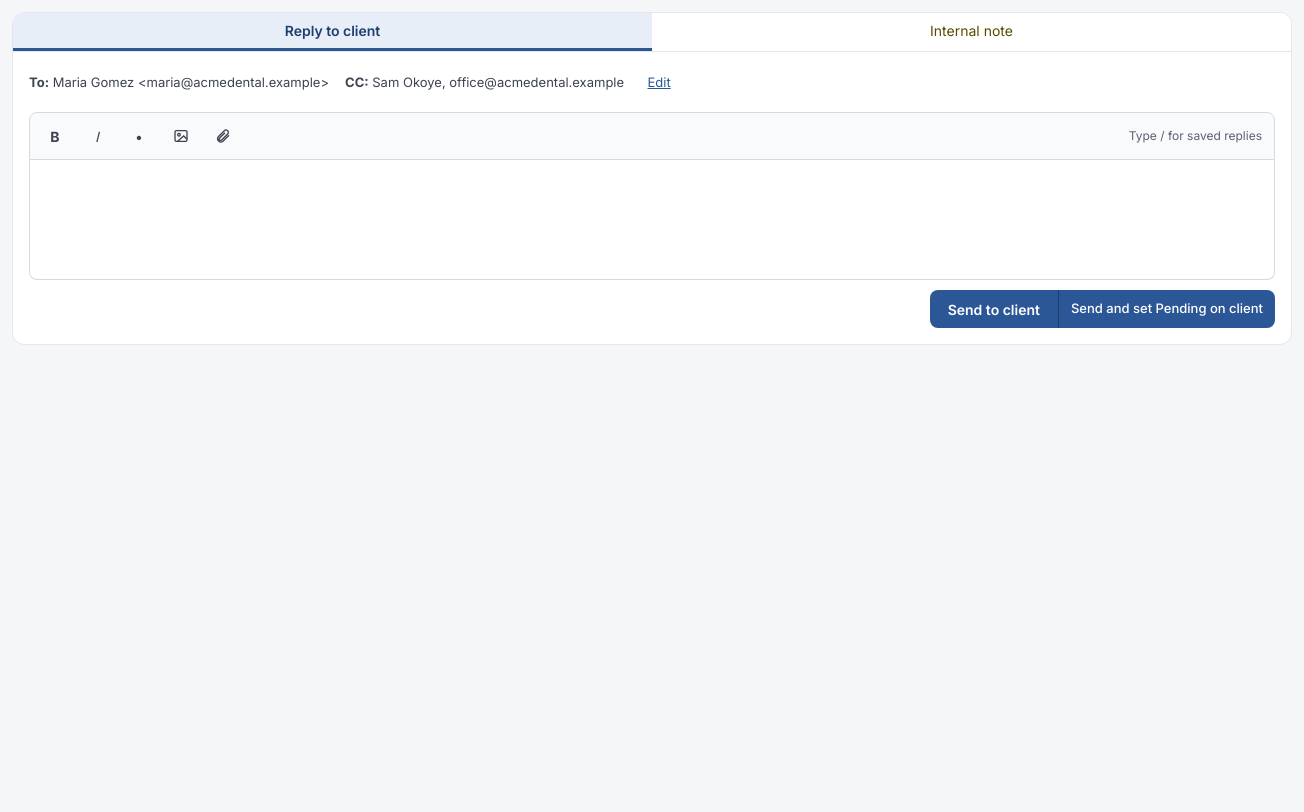
Test: Reply CC line and editor (ADR-035) › refuses an invalid address
Step 1. Click the button with aria-label "Edit CC" → (659, 83), box [640,64,678,102]
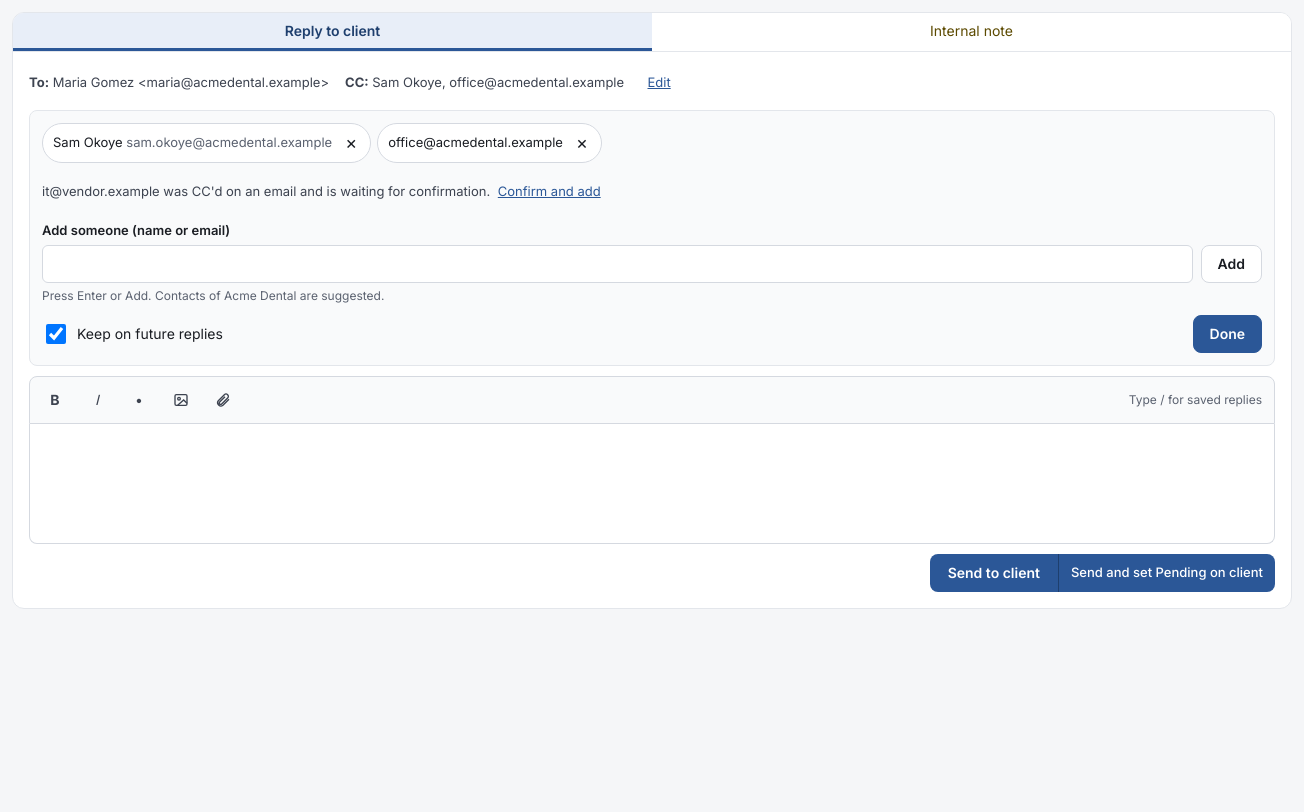
Step 2. Type "not an address" into the dropdown labelled "Add someone (name or email)" → (617, 264), box [42,244,1192,282]
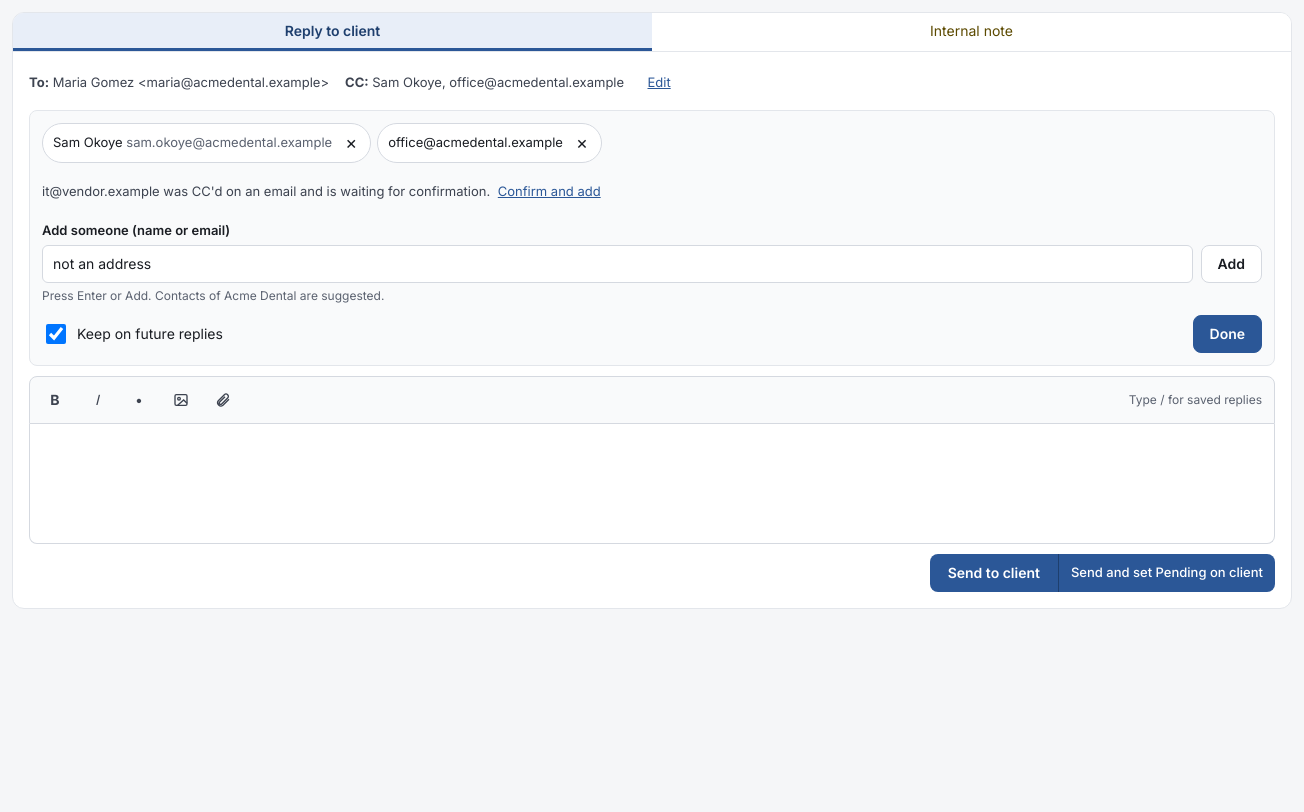
Step 3. Press Enter in the dropdown labelled "Add someone (name or email)", box [42,244,1192,282]
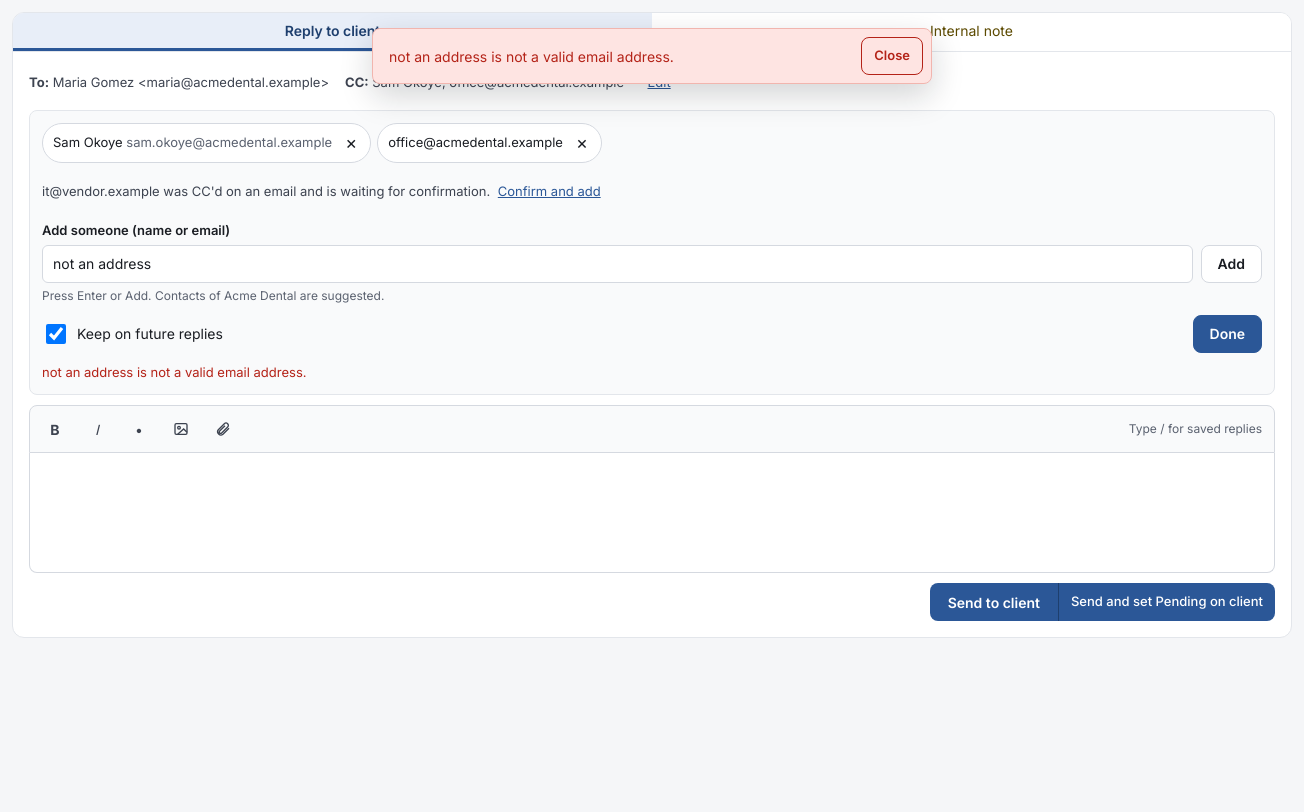
expect the message "not an address is not a valid email address." is shown: met, box [42,364,306,380]
